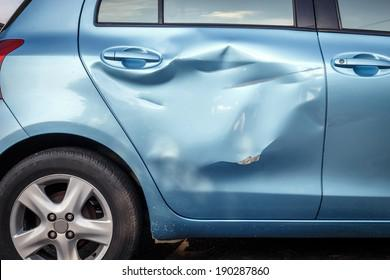doorouter-dent: (128, 28, 320, 186)
